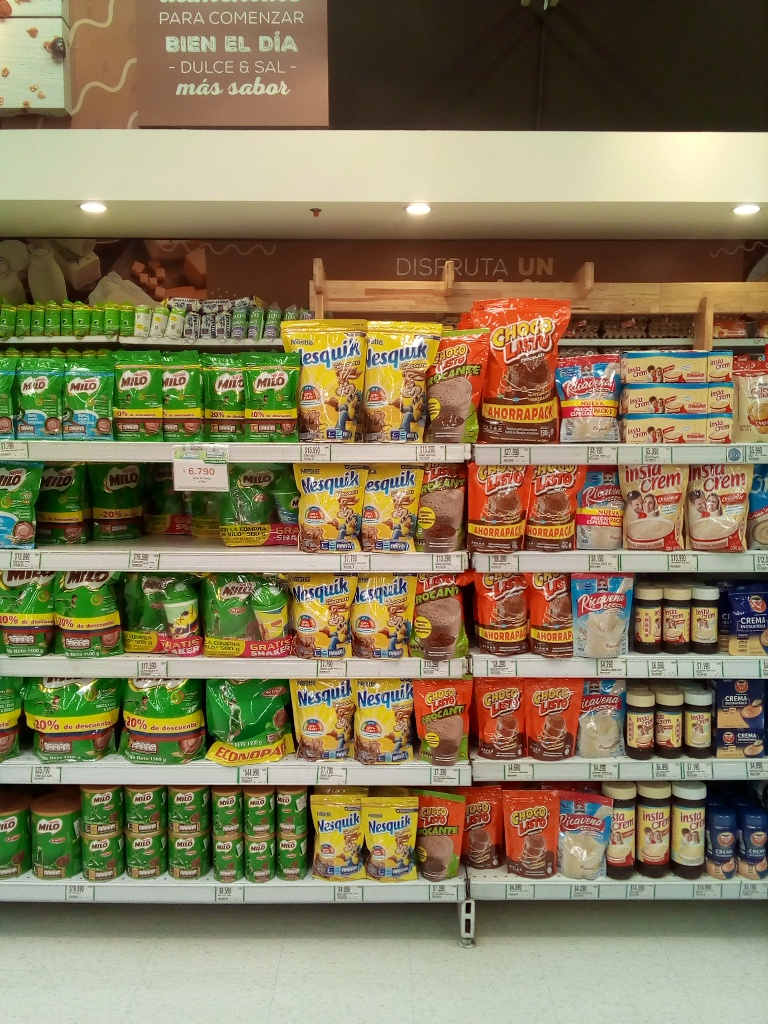COL0170102DYP25000: (410, 675, 473, 764)
COL0170102DYP50000: (413, 462, 469, 551)
COL0170103DYP1,500: (474, 300, 563, 444)
COL0170103DYP20000: (502, 788, 559, 878)
COL0170103DYP44000: (470, 463, 524, 552)
COL0170203DYP25000: (114, 352, 165, 442)
COL0170203DYP50000: (229, 468, 277, 543)
COL0170203LAT20000: (214, 789, 243, 836)
COL0170203LAT40000: (80, 788, 123, 835)
COL0170205DYP20000: (18, 357, 66, 442)
COL0170303DYP20000: (357, 796, 421, 884)
